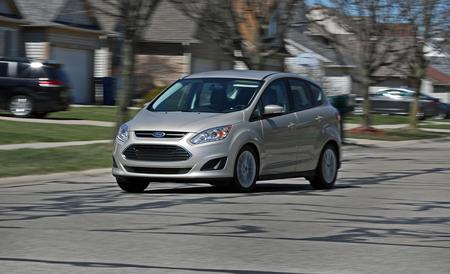car: (110, 67, 344, 194)
